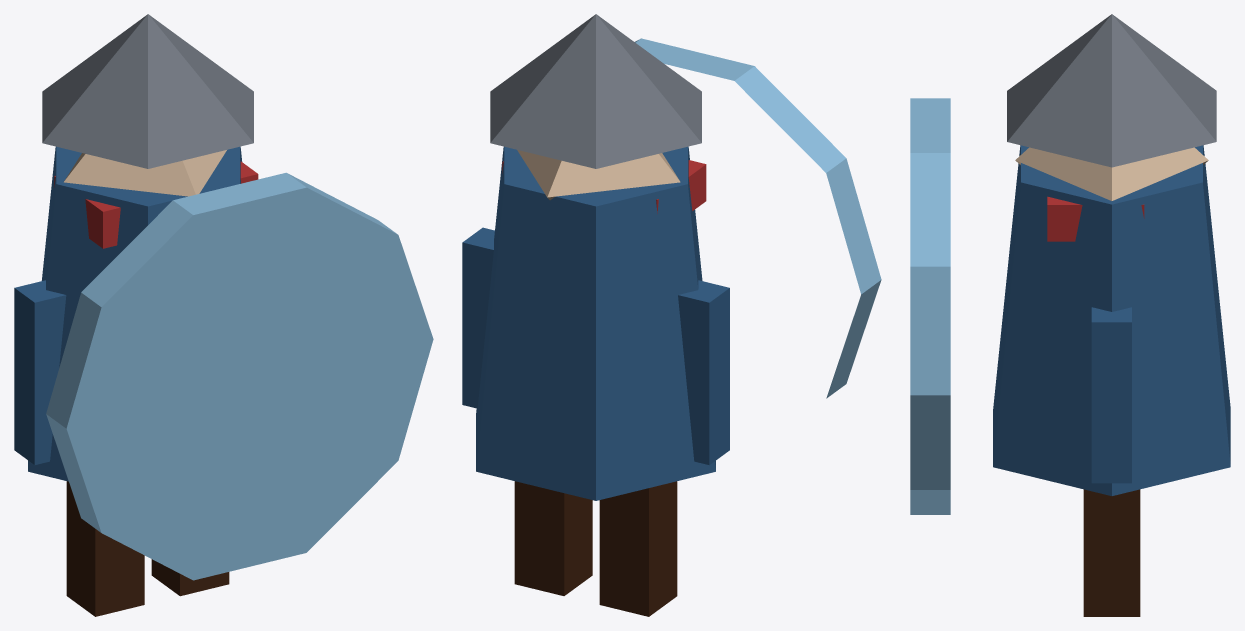
The model's file is soldier_shield.glb.
3 views of the same model, side by side, from view 1: azimuth 30°, elevation 25°; view 2: azimuth 150°, elevation 25°; view 3: azimuth 270°, elevation 25° (orthographic).
Parts seen in each view (by area): view 1: soldier_shield; view 2: soldier_shield; view 3: soldier_shield.
Boxes of the visible parts, x1=… form: soldier_shield: x1=14, y1=14, x2=433, y2=616; soldier_shield: x1=462, y1=14, x2=881, y2=616; soldier_shield: x1=910, y1=14, x2=1230, y2=616.
Size of the model in its own units: 0.52 by 0.78 by 0.3972.
